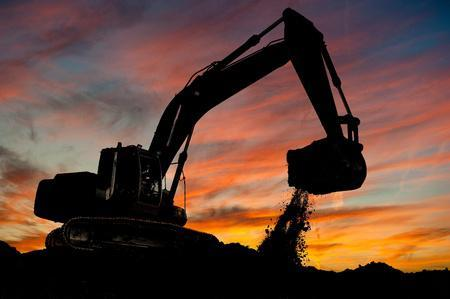EXCAVATORS: (32, 8, 368, 261)
